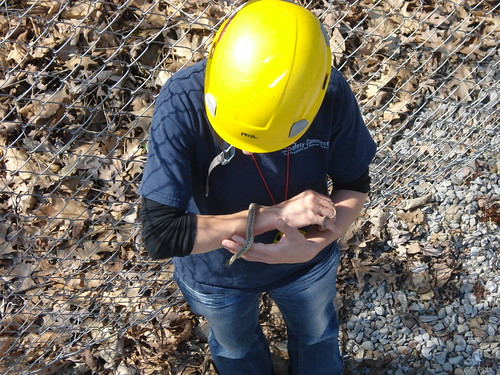person hardhat: (143, 1, 372, 375)
